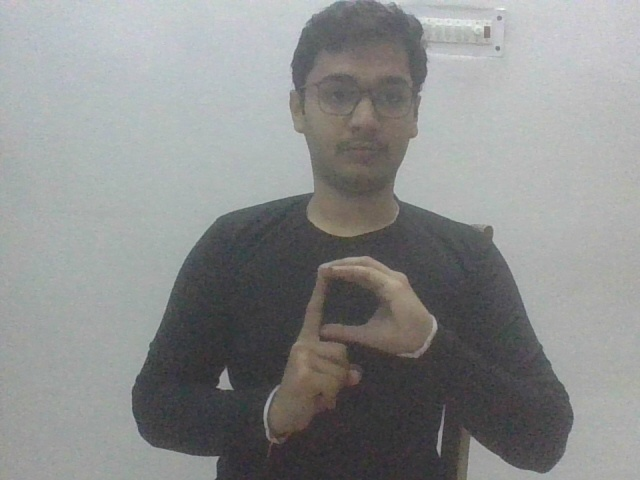D: (270, 252, 441, 447)
